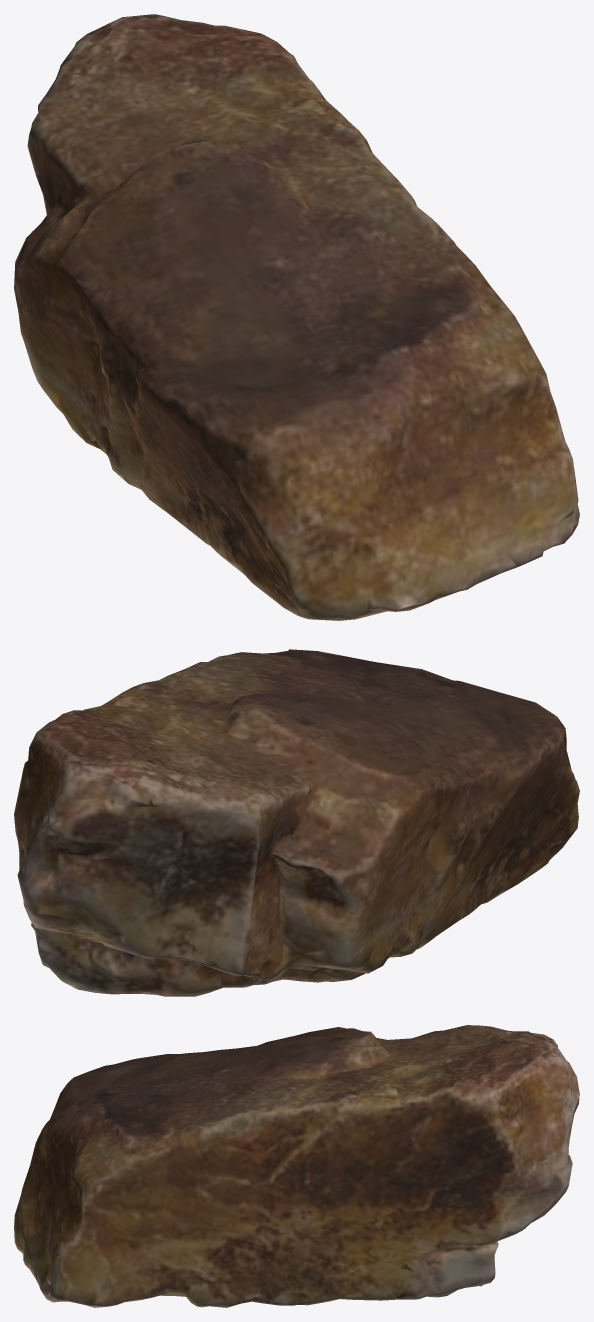
3 renders of one model, top to bottom at view 1: azimuth 30°, elevation 25°; view 2: azimuth 150°, elevation 25°; view 3: azimuth 270°, elevation 25°, orthographic. The views are drawn at different scales.
Parts seen in each view (by area): view 1: rock_07_lod0; view 2: rock_07_lod0; view 3: rock_07_lod0.
Part boxes in pixels (bbox=[...]): rock_07_lod0: bbox=[14, 14, 579, 620]; rock_07_lod0: bbox=[14, 649, 579, 996]; rock_07_lod0: bbox=[14, 1025, 579, 1307].
Size of the model in its own units: 0.1684 by 0.1429 by 0.3198.
1 material, 1 textured.
